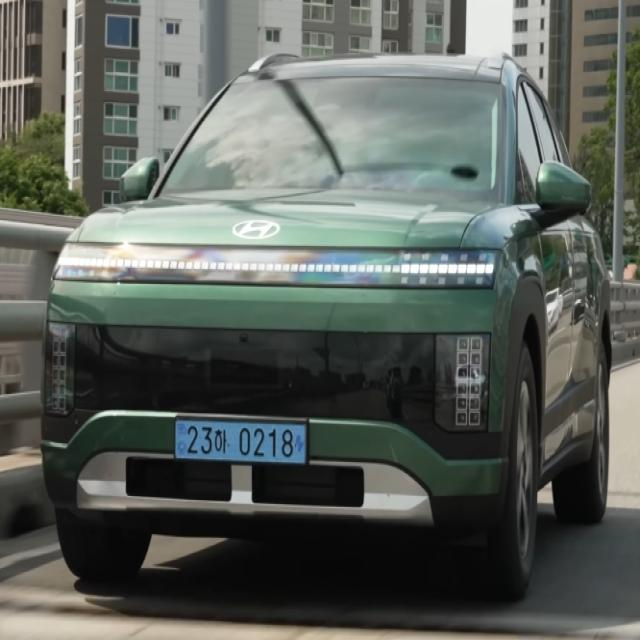car: (160, 411, 323, 480)
carev: (293, 415, 308, 468), (174, 415, 189, 465)
